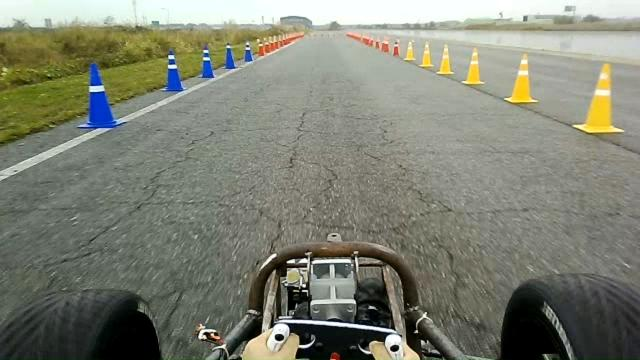blue cone: (76, 62, 126, 129), (160, 49, 185, 92), (197, 44, 215, 78), (222, 42, 236, 69), (243, 41, 253, 62)
yellow cone: (572, 63, 624, 134), (503, 53, 538, 104), (462, 46, 484, 85), (436, 43, 454, 75), (418, 41, 434, 67), (404, 40, 416, 62)
